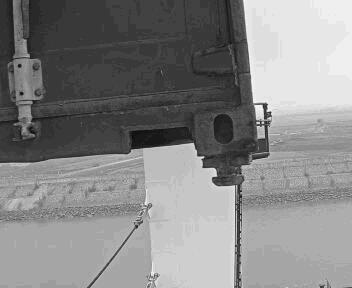twist_lock_1: (257, 140, 316, 186)
